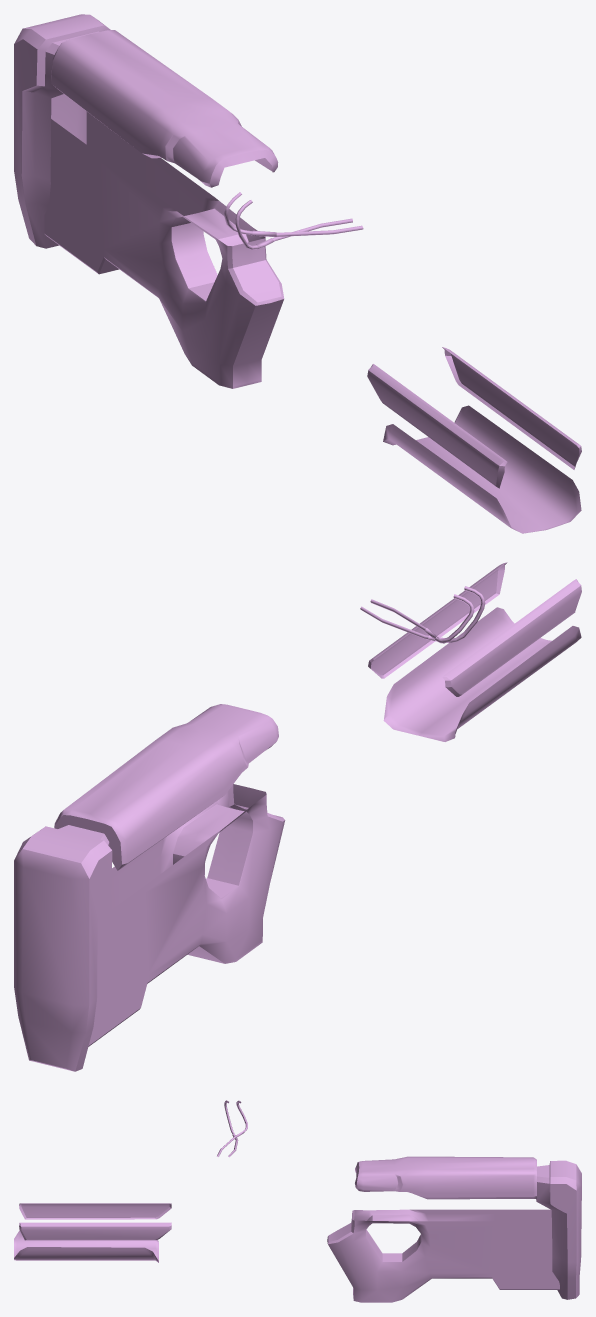
File: SCope Wires.fbx
3 views of the same model, one above another, from view 1: azimuth 30°, elevation 25°; view 2: azimuth 150°, elevation 25°; view 3: azimuth 270°, elevation 25° (orthographic). The views are drawn at different scales.
Parts seen in each view (by area): view 1: v_srs99s4am_srs_body.004; view 2: v_srs99s4am_srs_body.004; view 3: v_srs99s4am_srs_body.004.
Boxes of the visible parts, left/top/right/bottom form: v_srs99s4am_srs_body.004: left=14, top=14, right=581, bottom=533; v_srs99s4am_srs_body.004: left=14, top=562, right=581, bottom=1071; v_srs99s4am_srs_body.004: left=14, top=1100, right=581, bottom=1302.
Bounding box in the file's own units: 411 × 688 × 2133.
